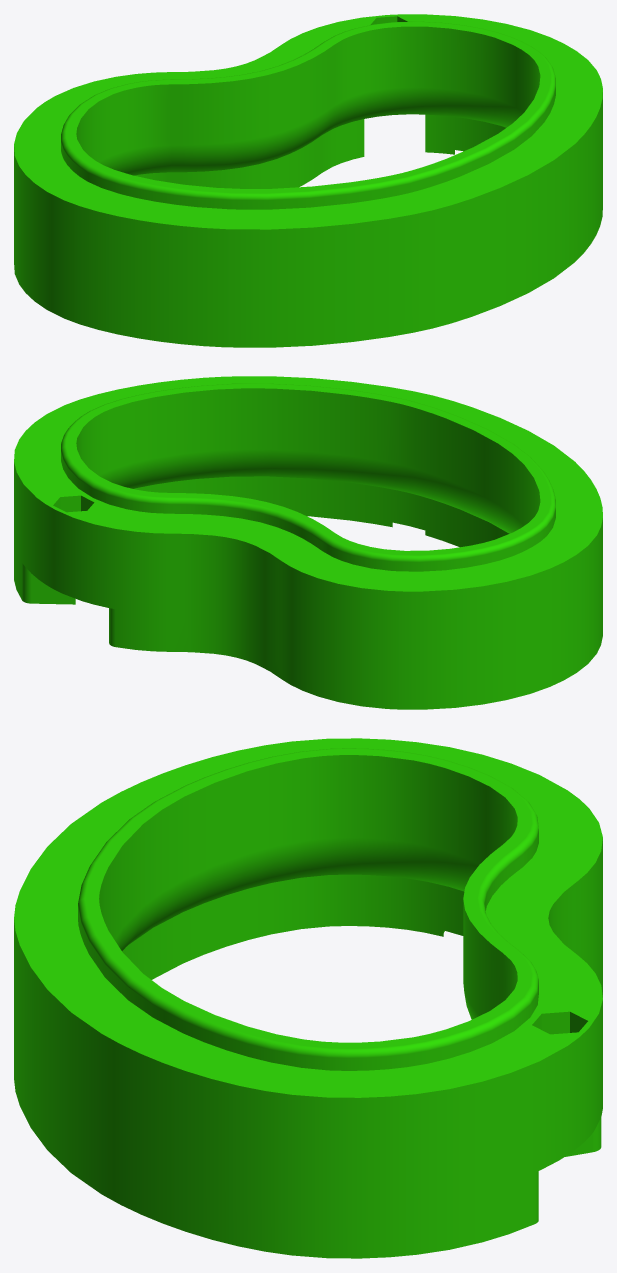
File: pads-base.fbx
The picture shows the model from 3 angles, top to bottom: view 1: azimuth 30°, elevation 25°; view 2: azimuth 150°, elevation 25°; view 3: azimuth 270°, elevation 25°; orthographic projection. The views are drawn at different scales.
Visible parts, largest first — view 1: pads-base; view 2: pads-base; view 3: pads-base.
Part boxes in pixels (<box>): pads-base: <box>14,14,602,347</box>; pads-base: <box>14,376,602,709</box>; pads-base: <box>14,738,602,1258</box>.
Bounding box in the file's own units: 120 × 28 × 83.04.
